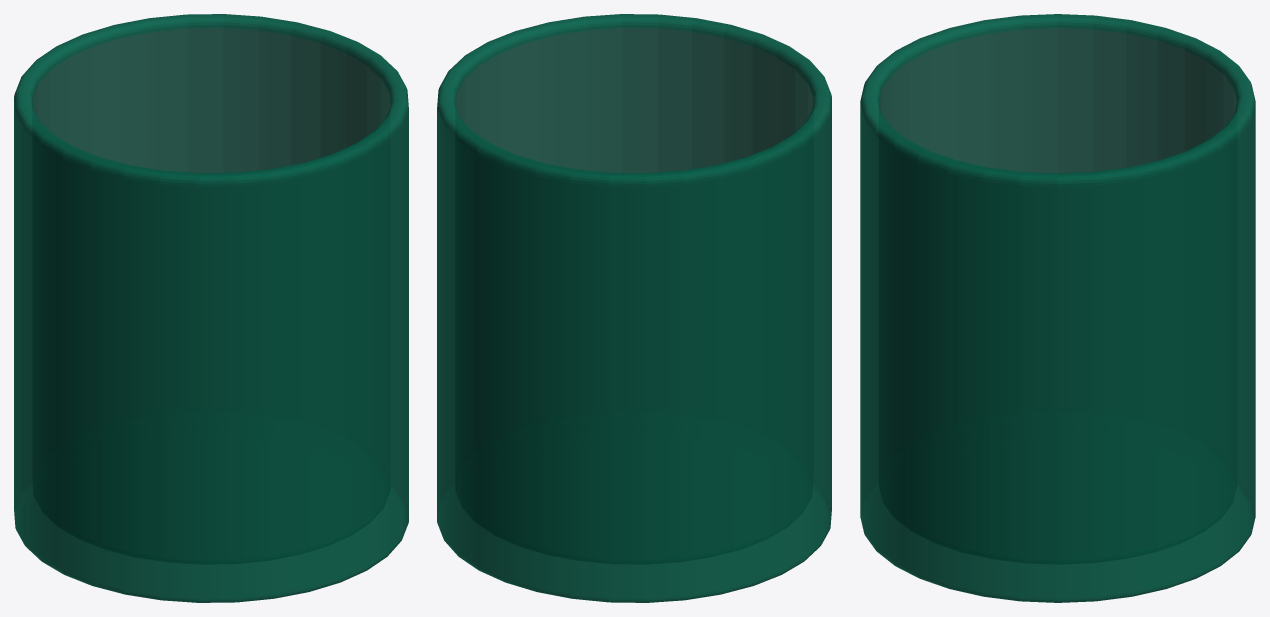
The model's file is Glass1.FBX.
The picture shows the model from 3 angles, left to right: view 1: azimuth 30°, elevation 25°; view 2: azimuth 150°, elevation 25°; view 3: azimuth 270°, elevation 25°; orthographic projection.
Visible parts, largest first — view 1: Cylinder001; view 2: Cylinder001; view 3: Cylinder001.
Part boxes in pixels (bbox=[...]): Cylinder001: bbox=[14, 14, 408, 602]; Cylinder001: bbox=[437, 14, 831, 602]; Cylinder001: bbox=[860, 14, 1255, 602].
Size of the model in its own units: 14.17 by 16.83 by 14.17.
